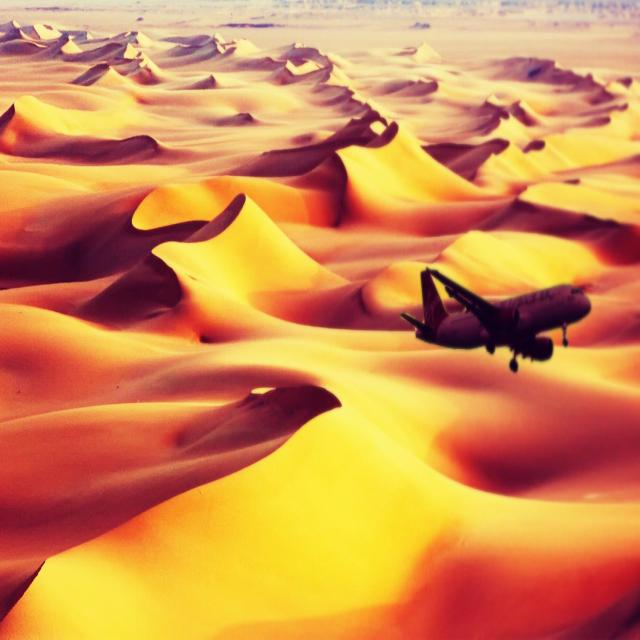airplane: (399, 265, 592, 373)
